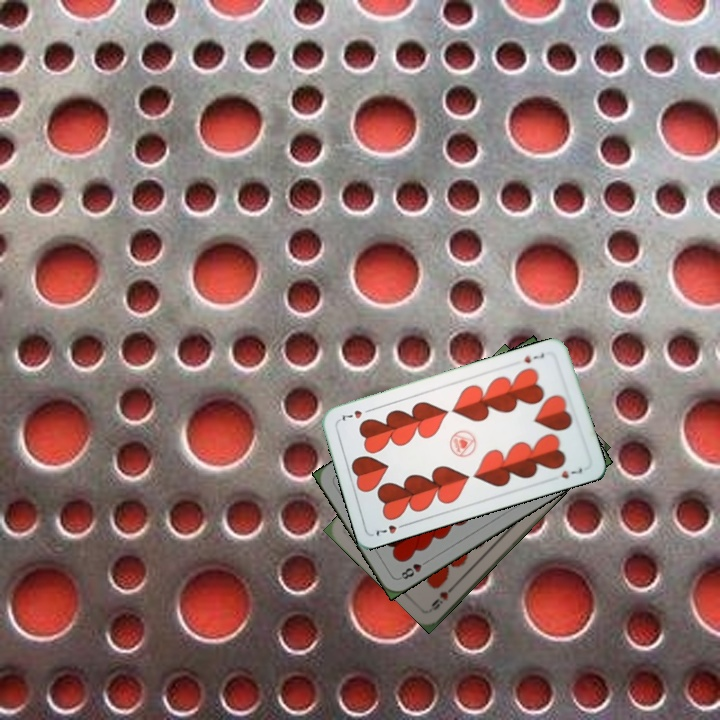H7: (372, 519, 410, 538), (520, 349, 547, 366)
H8: (395, 555, 432, 582)
H9: (427, 580, 458, 613)
